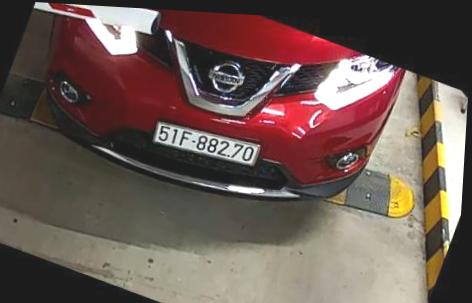License_Plate: (147, 115, 272, 176)
